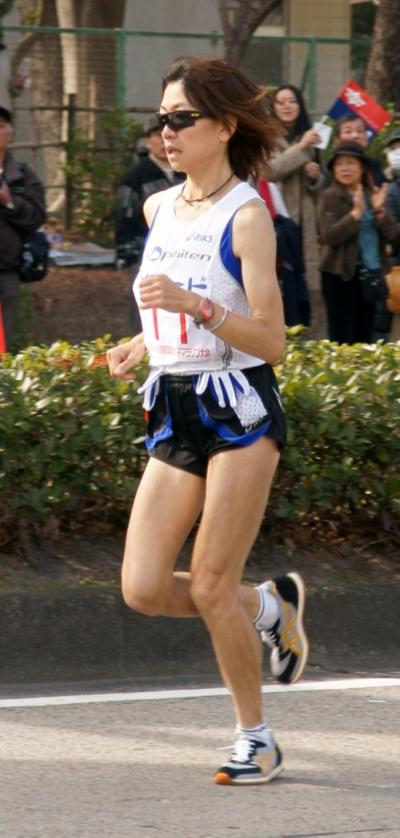person: (106, 51, 309, 787)
